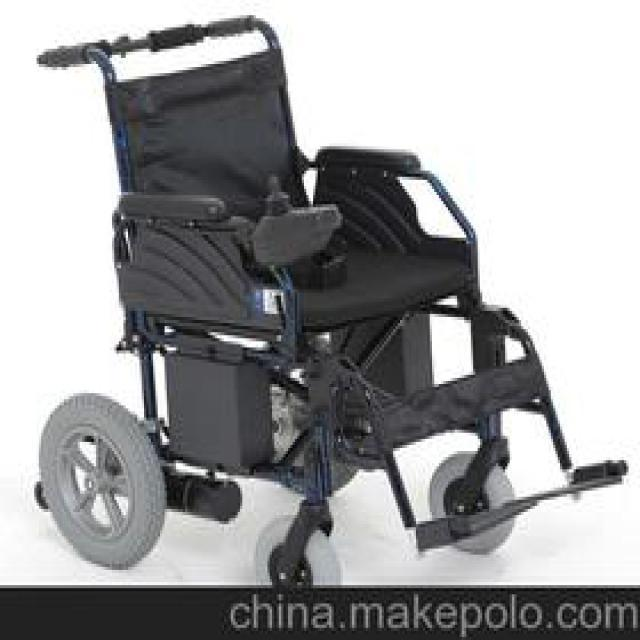wheelchair: (23, 9, 631, 576)
